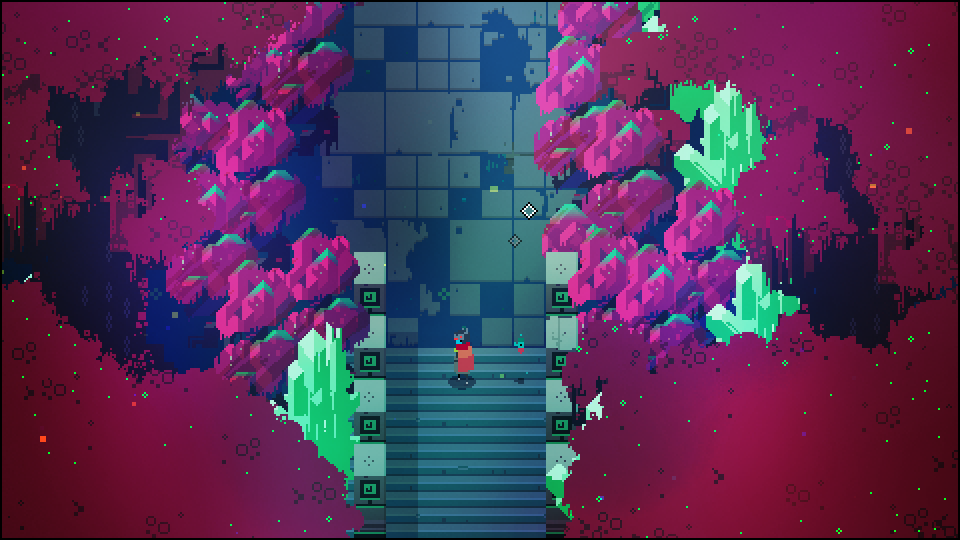player: (447, 333, 478, 383)
